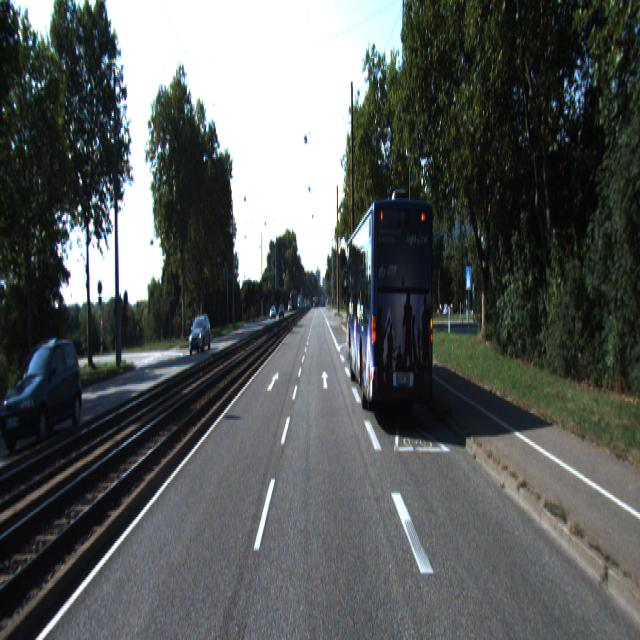Car: (347, 192, 438, 431), (3, 335, 89, 450), (188, 316, 212, 355)
